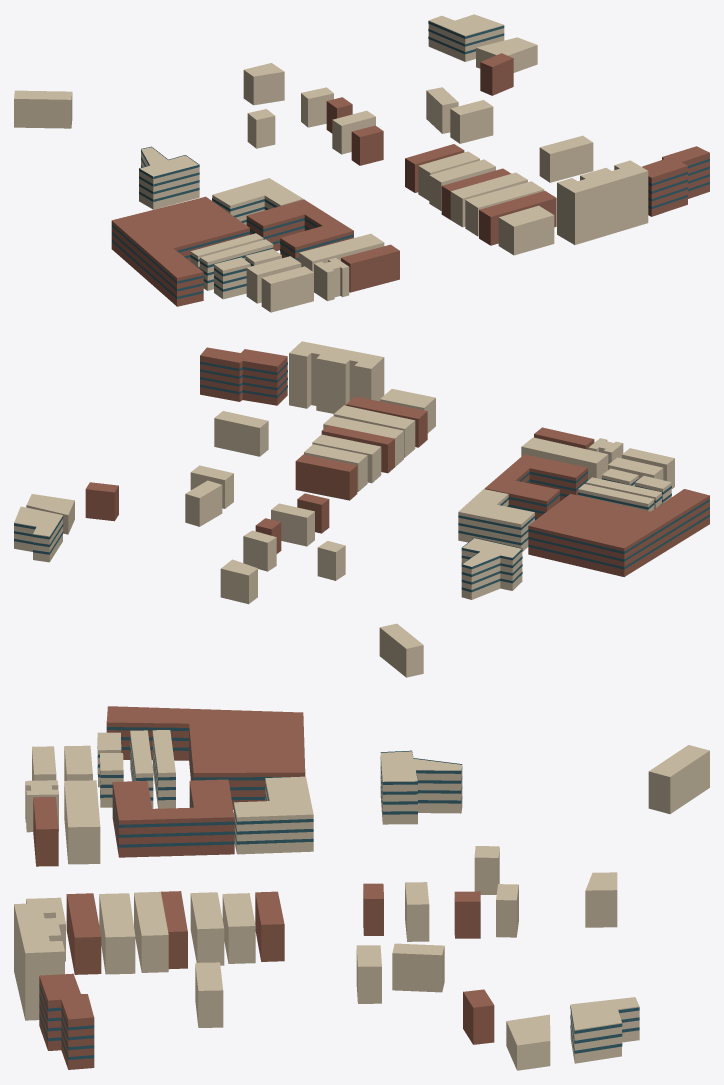
Rendered from city_0_-6.glb.
The picture shows the model from 3 angles, top to bottom: view 1: azimuth 30°, elevation 25°; view 2: azimuth 150°, elevation 25°; view 3: azimuth 270°, elevation 25°; orthographic projection. The views are drawn at different scales.
Visible parts, largest first — view 1: city_0_-6; view 2: city_0_-6; view 3: city_0_-6.
Part boxes in pixels (box(x1,y1,x2,y2)): city_0_-6: box(14, 14, 709, 312); city_0_-6: box(14, 341, 709, 677); city_0_-6: box(14, 706, 709, 1070).
Size of the model in its own units: 283 by 27.2 by 255.
